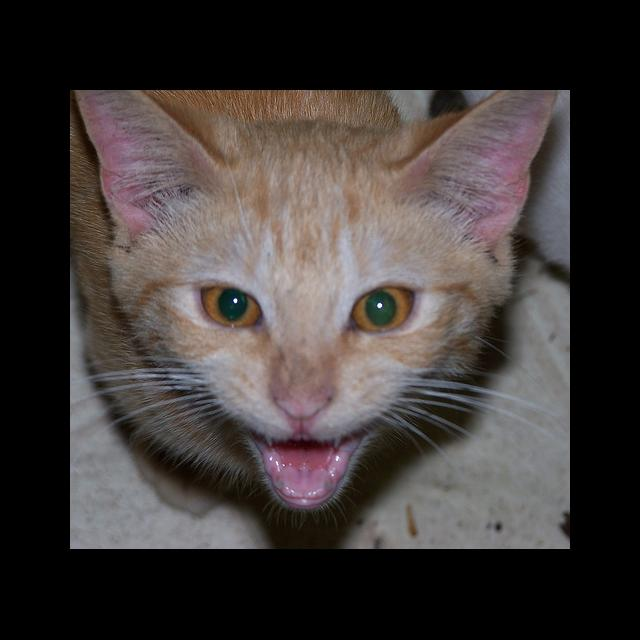animals: (81, 90, 551, 418)
